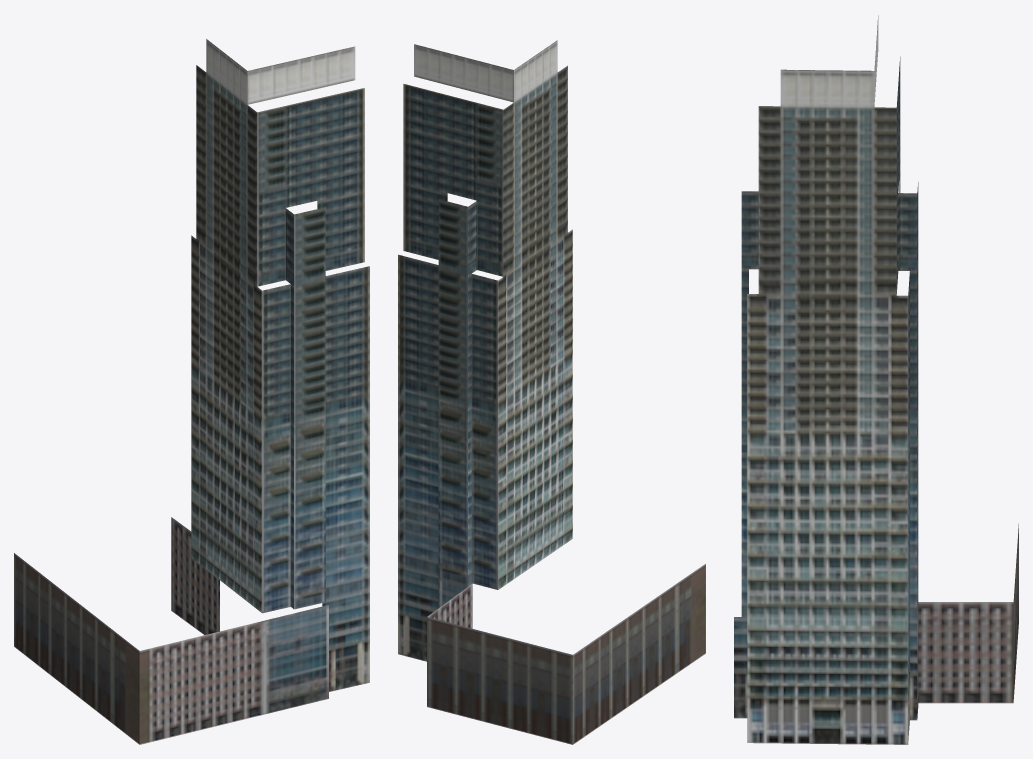
Rendered from towers_a_33_b.glb.
3 renders of one model, left to right at view 1: azimuth 30°, elevation 25°; view 2: azimuth 150°, elevation 25°; view 3: azimuth 270°, elevation 25°, orthographic. The views are drawn at different scales.
Visible parts, largest first — view 1: towers_a_33; view 2: towers_a_33; view 3: towers_a_33.
Boxes of the visible parts, x1=… form: towers_a_33: x1=14, y1=39, x2=369, y2=744; towers_a_33: x1=398, y1=40, x2=705, y2=744; towers_a_33: x1=734, y1=15, x2=1018, y2=744.
Size of the model in its own units: 1.3 by 3.23 by 1.24.
1 material, 1 textured.
